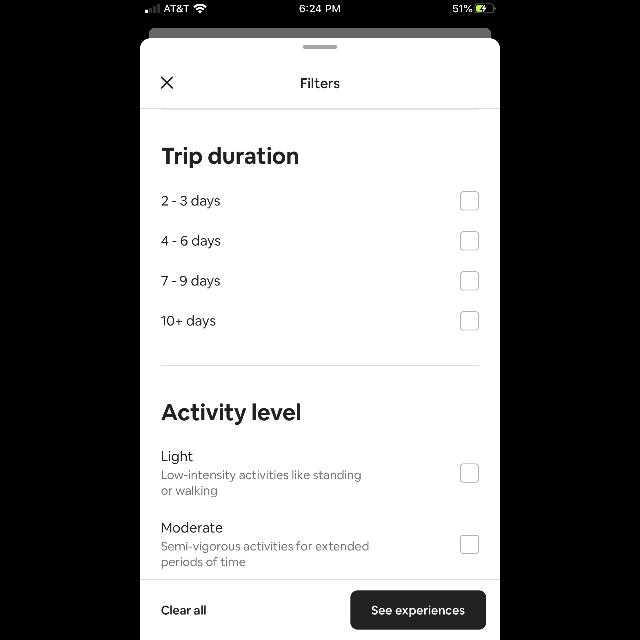checkbox: (460, 191, 480, 211), (460, 312, 480, 331), (460, 232, 480, 250), (459, 272, 479, 290), (459, 464, 479, 482), (459, 536, 479, 552)
icon: (161, 76, 173, 90)
text: (162, 541, 368, 569), (162, 470, 360, 498), (162, 403, 300, 425), (162, 146, 298, 168), (162, 195, 220, 209), (162, 275, 220, 289), (162, 236, 220, 248), (162, 316, 216, 328), (162, 522, 222, 532), (162, 451, 194, 465), (300, 78, 340, 89), (162, 605, 206, 615)
textbutton: (350, 590, 486, 630)
uppertaskbar: (140, 0, 500, 14)
